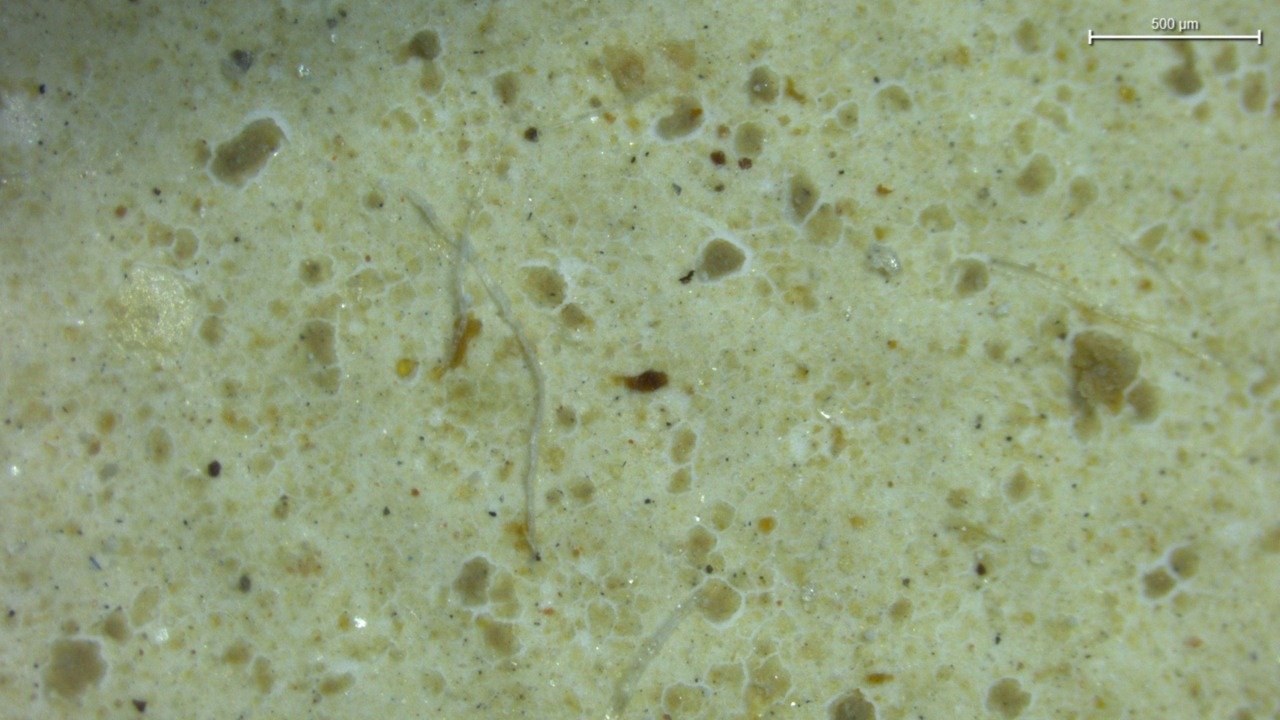microplastic_fragment: (867, 242, 900, 281)
